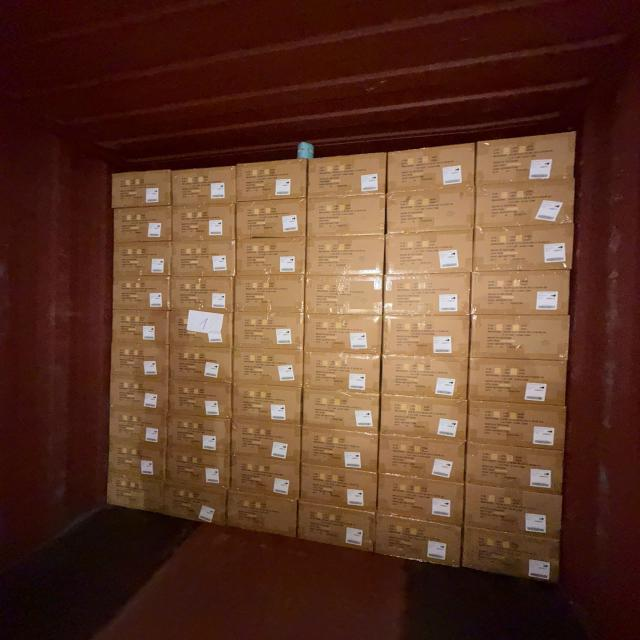Carton: (461, 523, 562, 586), (462, 481, 563, 543), (474, 129, 580, 188), (472, 176, 577, 228), (464, 446, 565, 496), (384, 142, 476, 195), (383, 183, 475, 236), (466, 402, 566, 450), (372, 519, 462, 572), (472, 226, 576, 271), (473, 316, 574, 362), (467, 356, 568, 402), (232, 422, 302, 488), (471, 272, 573, 317), (378, 474, 467, 524), (306, 149, 389, 200), (295, 502, 376, 552), (382, 396, 470, 441), (385, 316, 473, 360), (380, 435, 468, 479), (388, 234, 476, 277), (386, 274, 474, 316), (383, 355, 471, 397), (234, 156, 310, 204), (228, 453, 299, 504), (297, 468, 378, 512), (300, 426, 379, 470), (304, 392, 384, 435), (163, 478, 230, 528), (235, 234, 309, 279), (310, 197, 390, 238), (164, 376, 234, 422), (229, 491, 300, 536), (169, 162, 238, 208), (309, 238, 388, 278), (308, 275, 387, 315), (233, 309, 306, 352), (306, 352, 384, 392), (306, 316, 382, 356), (168, 237, 238, 280), (104, 468, 166, 516), (168, 343, 234, 386), (106, 436, 167, 482), (170, 201, 238, 242), (233, 348, 306, 386), (238, 199, 309, 238), (110, 166, 174, 209), (107, 406, 170, 449), (230, 388, 301, 426), (111, 204, 174, 245), (232, 276, 303, 312), (109, 374, 171, 414), (168, 416, 232, 454), (110, 307, 172, 346), (170, 314, 237, 350), (110, 340, 170, 380), (172, 276, 237, 312), (112, 240, 172, 278), (167, 456, 232, 490), (113, 278, 170, 311)
